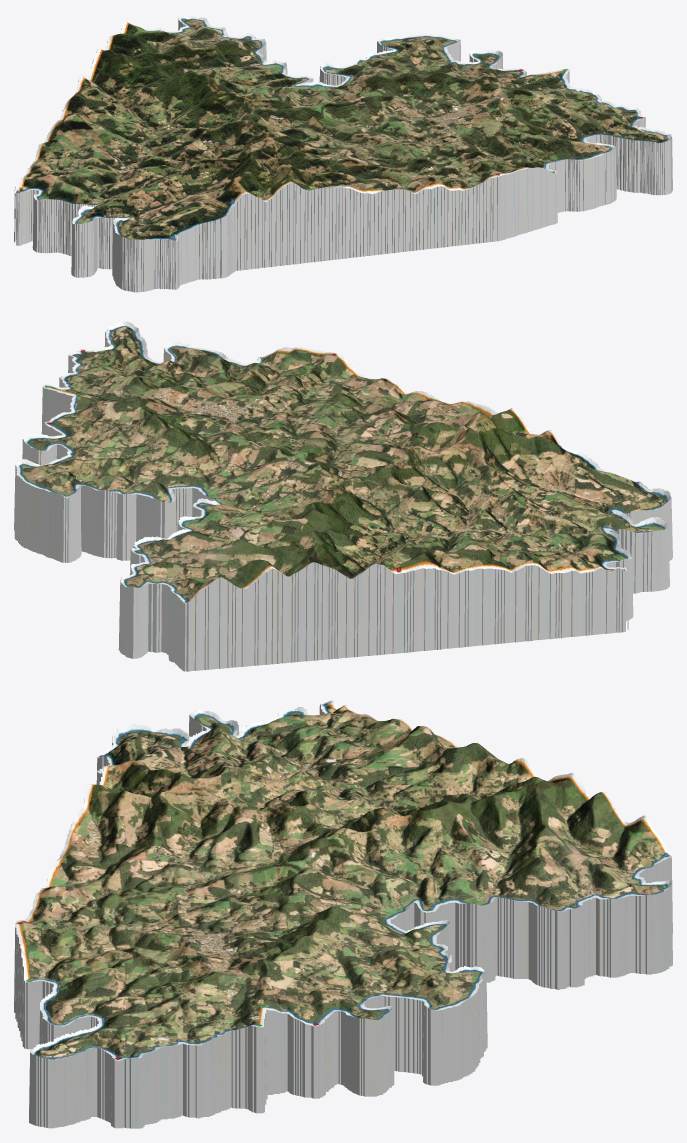
The picture shows the model from 3 angles, top to bottom: view 1: azimuth 30°, elevation 25°; view 2: azimuth 150°, elevation 25°; view 3: azimuth 270°, elevation 25°; orthographic projection. The views are drawn at different scales.
Size of the model in its own units: 1 by 0.1527 by 0.7791.
1 material, 1 textured.
